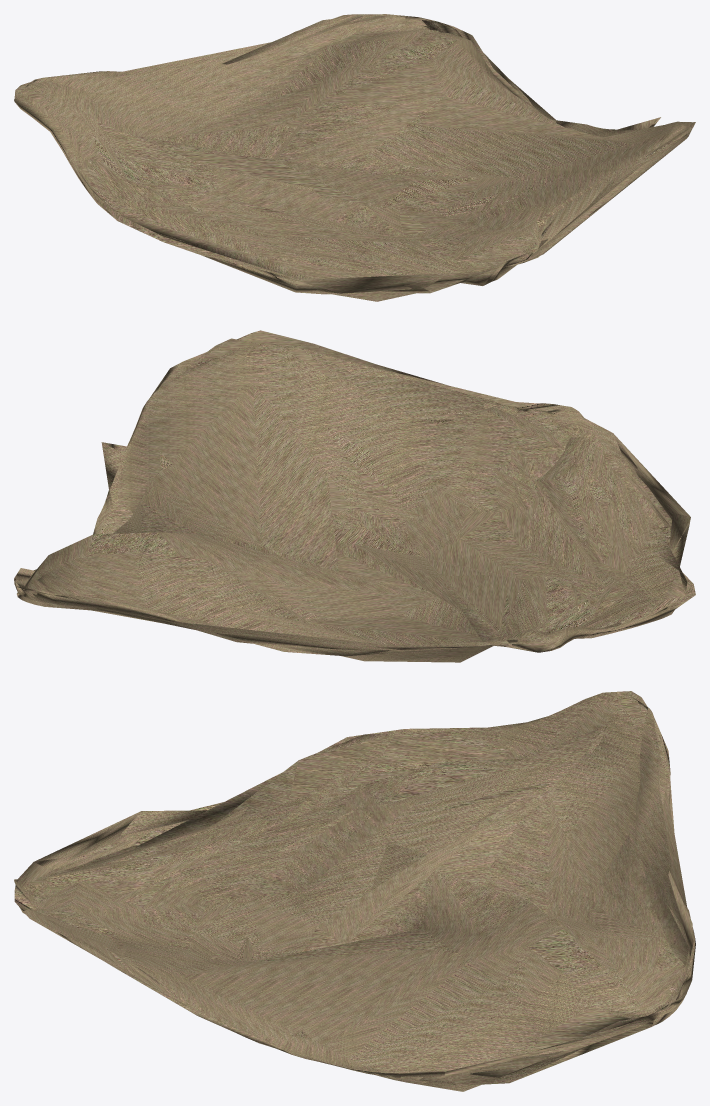
Rendered from aretzs.gltf.
3 renders of one model, top to bottom at view 1: azimuth 30°, elevation 25°; view 2: azimuth 150°, elevation 25°; view 3: azimuth 270°, elevation 25°, orthographic. The views are drawn at different scales.
Parts seen in each view (by area): view 1: Cube; view 2: Cube; view 3: Cube.
Boxes of the visible parts, <box> form: Cube: <box>14,14,695,301</box>; Cube: <box>14,330,695,662</box>; Cube: <box>14,691,695,1091</box>.
Size of the model in its own units: 448 by 94.91 by 414.
1 material, 1 textured.
